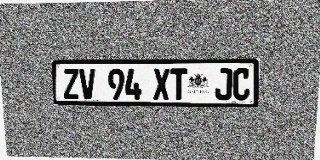4: (125, 68, 141, 100)
9: (108, 68, 125, 100)
C: (232, 68, 251, 100)
J: (215, 68, 232, 100)
T: (170, 68, 187, 100)
V: (79, 69, 96, 99)
X: (153, 68, 170, 100)
Z: (63, 69, 80, 99)
